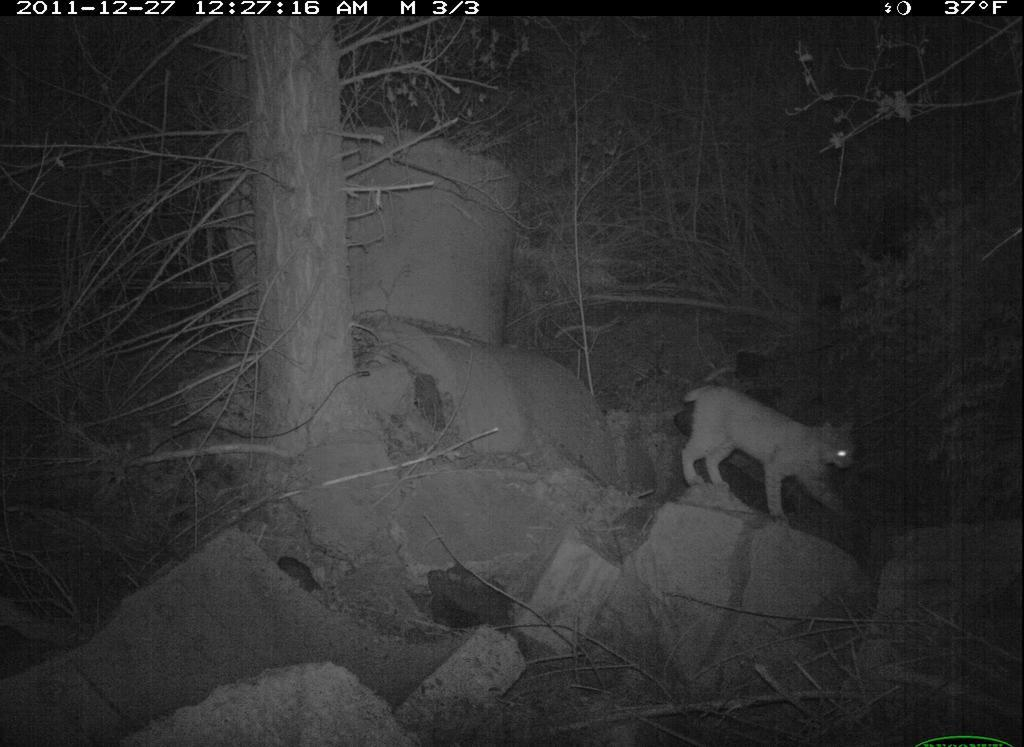bobcat: (674, 378, 865, 537)
